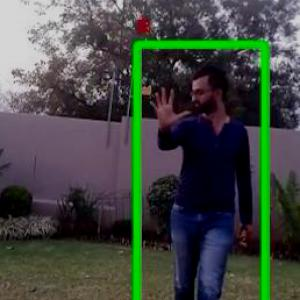follow_hand: (145, 80, 192, 134)
